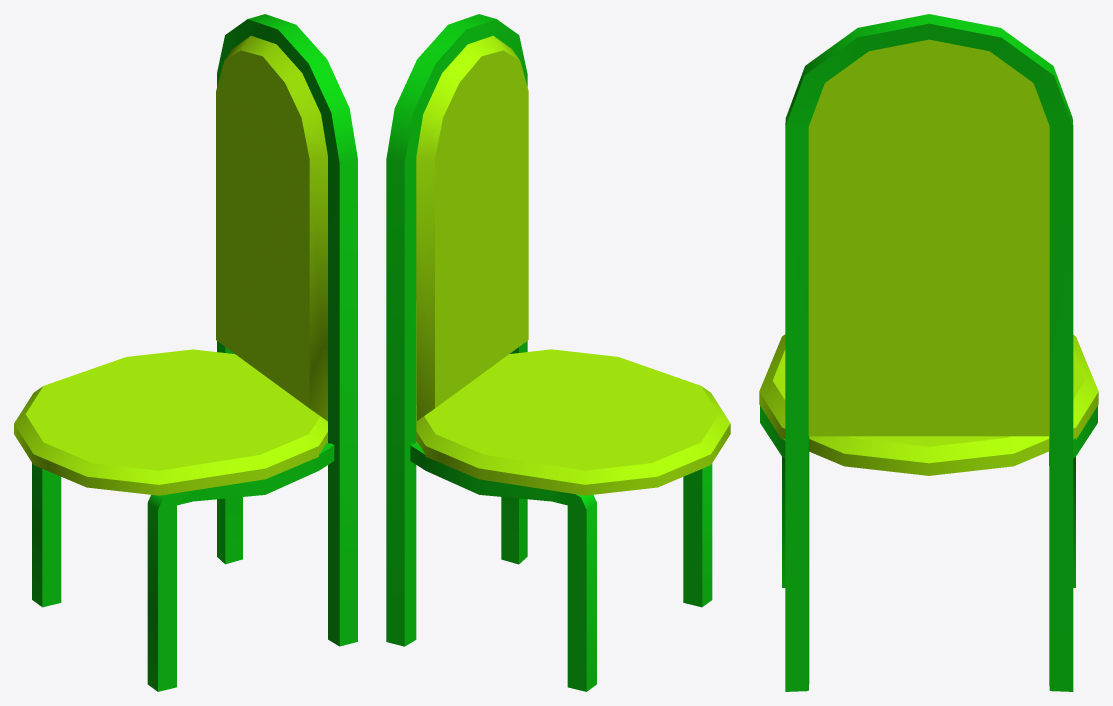
File: coffe_chair_04.fbx
3 views of the same model, side by side, from view 1: azimuth 30°, elevation 25°; view 2: azimuth 150°, elevation 25°; view 3: azimuth 270°, elevation 25° (orthographic). The views are drawn at different scales.
Visible parts, largest first — view 1: coffe_chair_04; view 2: coffe_chair_04; view 3: coffe_chair_04.
Part boxes in pixels (left/top/right/bottom): coffe_chair_04: left=14, top=14, right=357, bottom=691; coffe_chair_04: left=386, top=14, right=730, bottom=691; coffe_chair_04: left=759, top=14, right=1098, bottom=691.
Size of the model in its own units: 0.7335 by 1.41 by 0.647.
